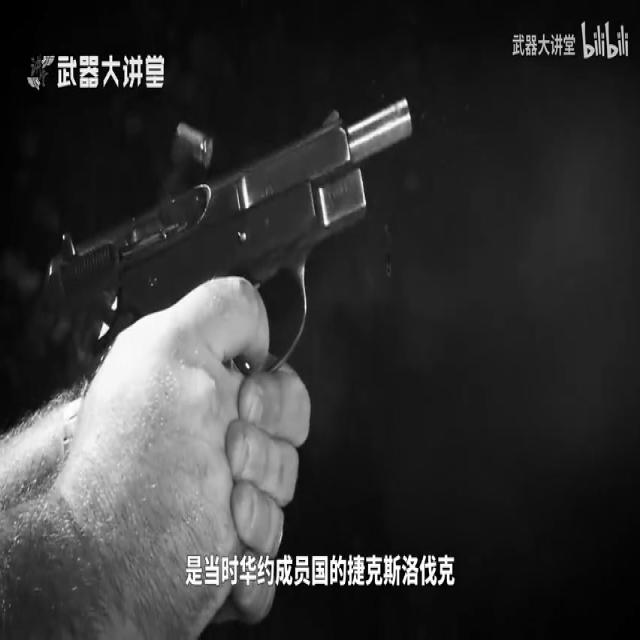Hand-Gun: (30, 95, 412, 438)
